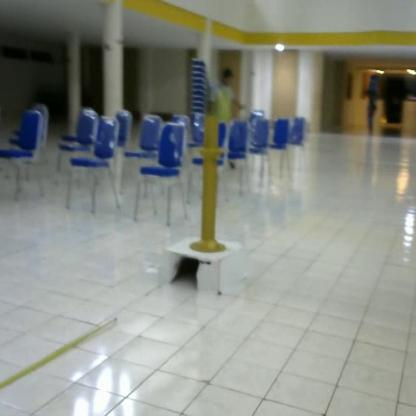pole: (186, 116, 236, 258)
